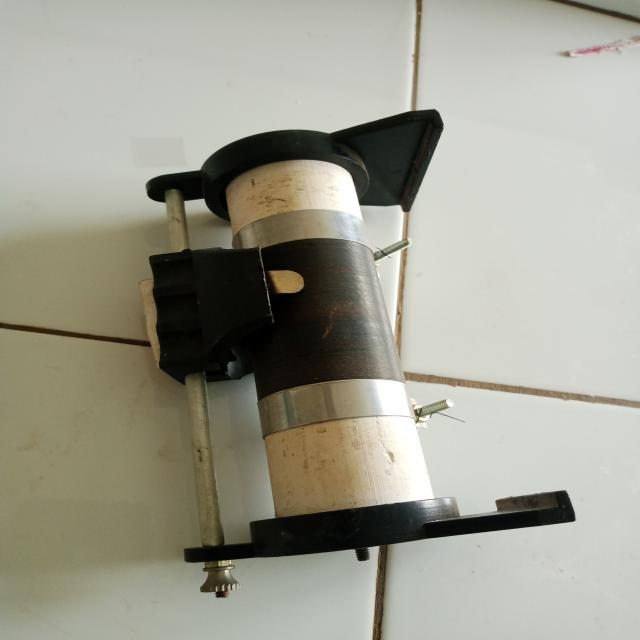Rheostat: (127, 103, 602, 586)
